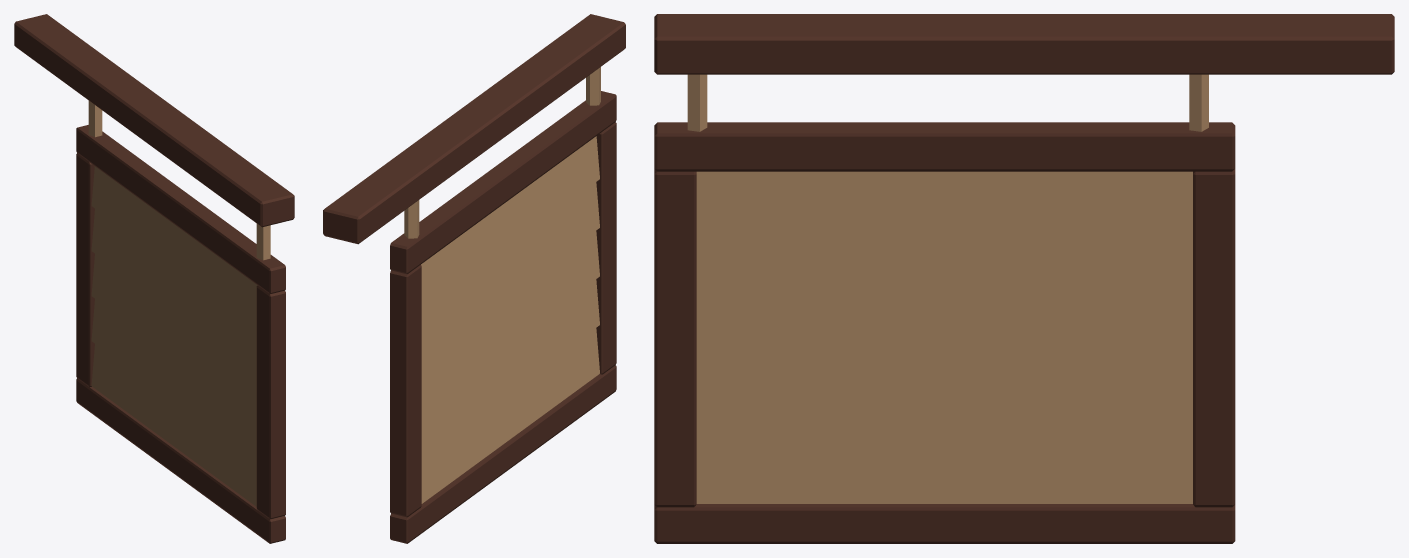
File: small-sign.glb
3 views of the same model, side by side, from view 1: azimuth 30°, elevation 25°; view 2: azimuth 150°, elevation 25°; view 3: azimuth 270°, elevation 25° (orthographic). The views are drawn at different scales.
Parts seen in each view (by area): view 1: Small Sign (×2); view 2: Small Sign (×2); view 3: Small Sign (×2).
Part boxes in pixels (<box>): Small Sign (×2): <box>14,14,294,543</box>; Small Sign (×2): <box>323,14,625,543</box>; Small Sign (×2): <box>654,14,1394,543</box>.
Bounding box in the file's own units: 0.0821 × 0.7889 × 1.03.
